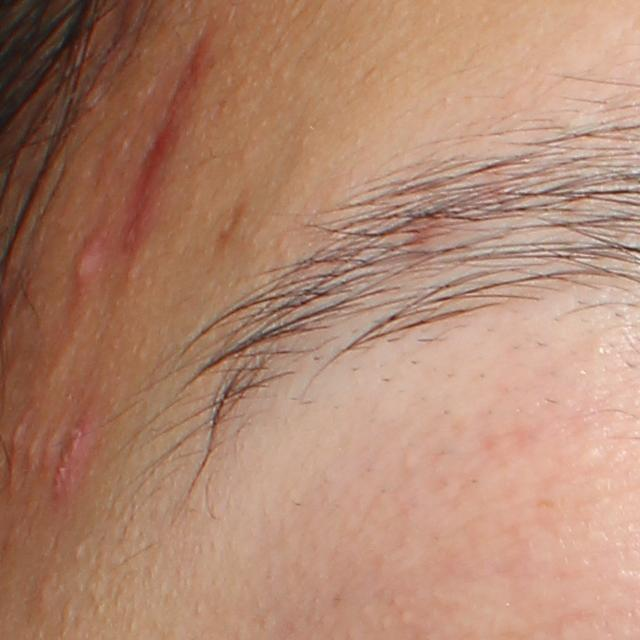papule: (55, 412, 94, 486), (72, 245, 107, 288)
